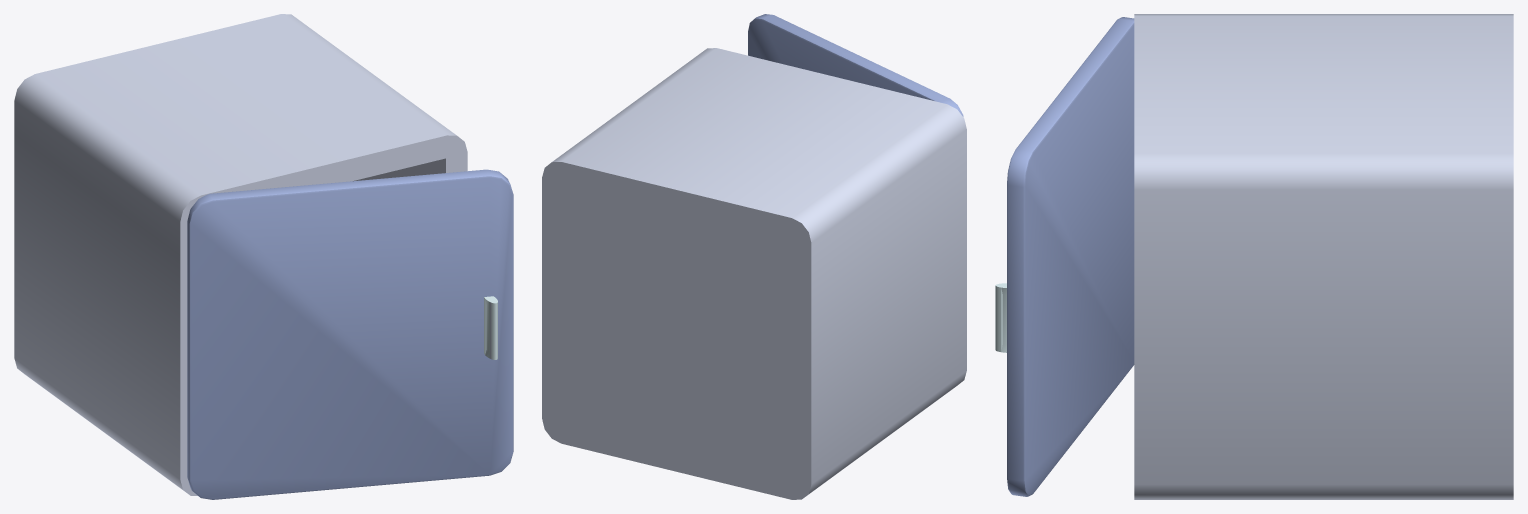
The model's file is ShortCupboardwall.fbx.
3 views of the same model, side by side, from view 1: azimuth 30°, elevation 25°; view 2: azimuth 150°, elevation 25°; view 3: azimuth 270°, elevation 25° (orthographic). The views are drawn at different scales.
Parts seen in each view (by area): view 1: Shortcupboard2; view 2: Shortcupboard2; view 3: Shortcupboard2.
Part boxes in pixels (box(x1,y1,x2,y2)): Shortcupboard2: box(14, 14, 513, 499); Shortcupboard2: box(542, 14, 966, 499); Shortcupboard2: box(995, 14, 1513, 499).
Bounding box in the file's own units: 59.26 × 59.26 × 80.94.
1 material, 1 textured.
